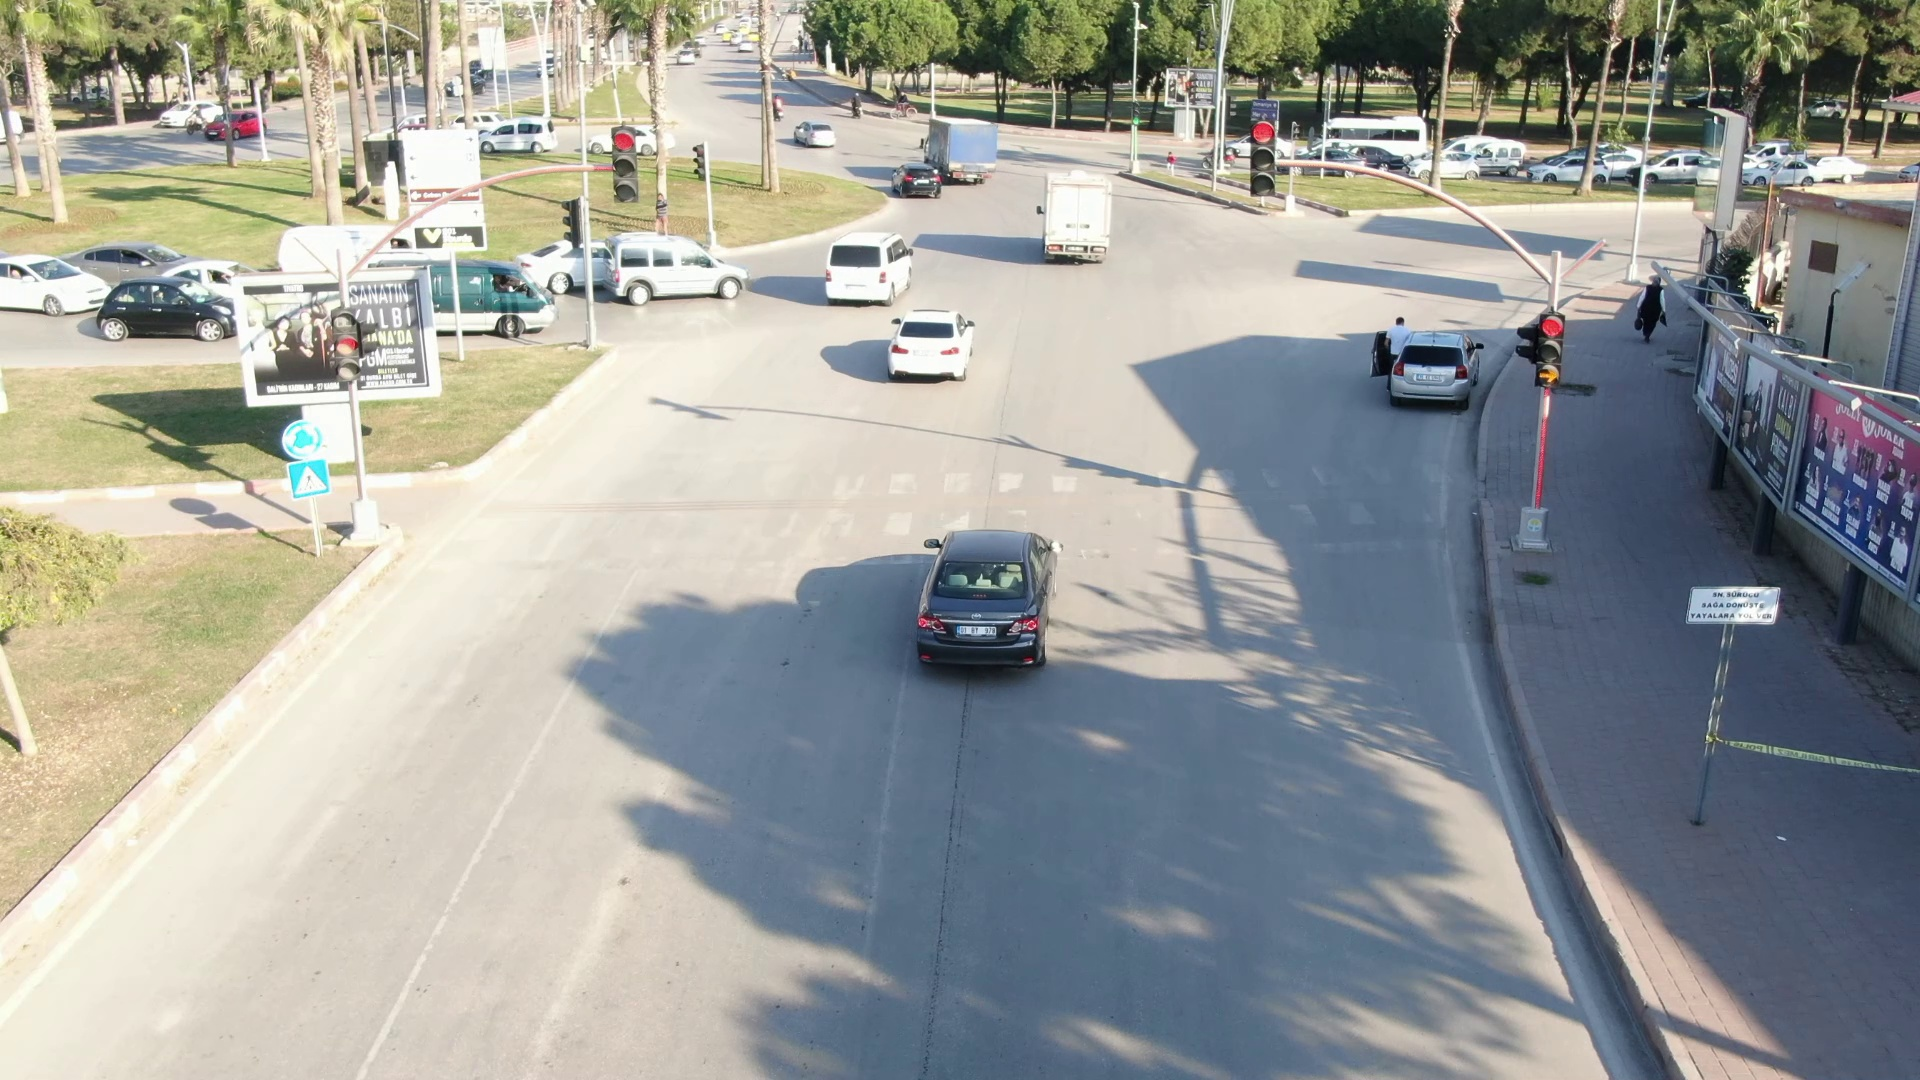car: (894, 515, 1099, 686), (605, 227, 762, 314), (1030, 164, 1139, 280), (90, 269, 240, 350), (882, 297, 989, 394), (1379, 334, 1499, 415), (812, 218, 917, 309), (881, 153, 943, 205), (786, 116, 849, 155)
person: (1630, 267, 1676, 345)
